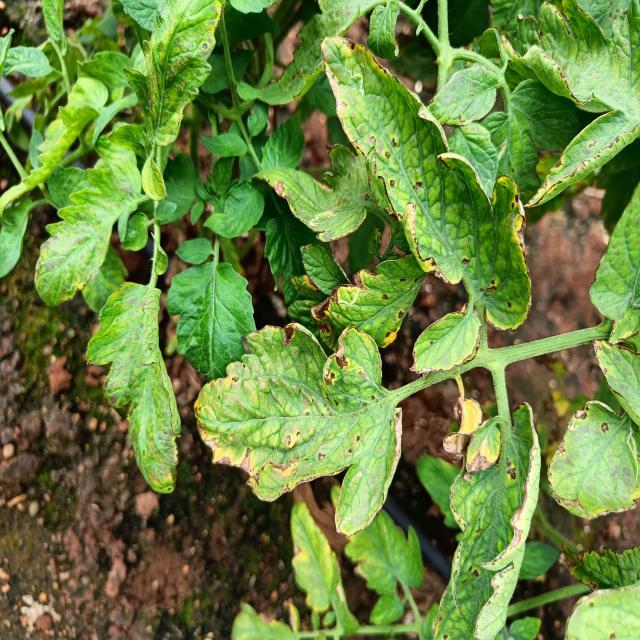Tomato mosaic virus leaf: (189, 318, 407, 536), (318, 33, 487, 284), (429, 400, 543, 640), (524, 108, 640, 215), (546, 397, 640, 526), (482, 174, 538, 334), (368, 248, 431, 348)
